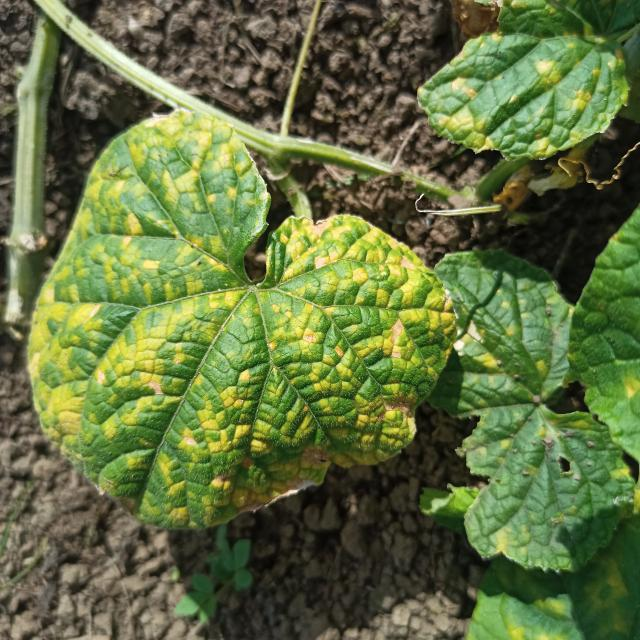disease_cucumber: (32, 113, 442, 524)
